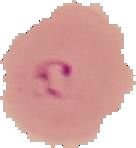parasitized: (31, 52, 89, 112)
